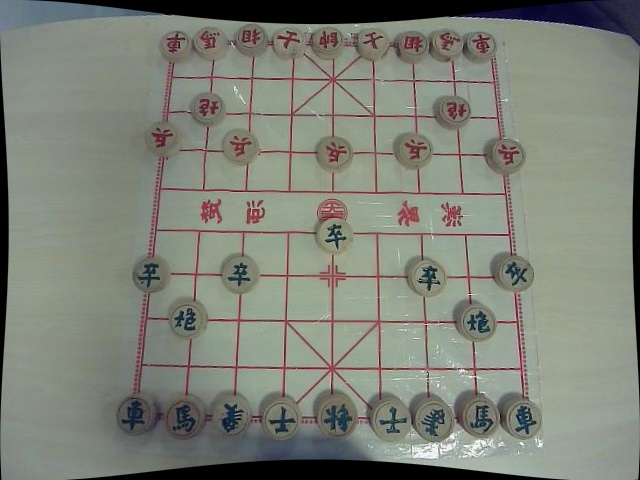Black-Cannon: (164, 303, 207, 336), (464, 307, 493, 339)
Black-Chariot: (118, 394, 153, 431), (511, 400, 539, 440)
Black-Elephant: (416, 406, 450, 442), (216, 399, 247, 437)
Black-General: (317, 398, 356, 442)
Black-Guard: (372, 403, 411, 442), (263, 401, 297, 441)
Black-Horse: (164, 403, 204, 439), (466, 398, 498, 440)
Black-Soldier: (496, 256, 536, 291), (316, 219, 351, 257), (409, 260, 445, 296), (131, 256, 166, 290), (221, 259, 255, 293)
Red-Cannon: (436, 93, 472, 128), (189, 91, 227, 123)
Red-Chariot: (466, 28, 498, 62), (164, 29, 188, 58)
Red-Elephant: (234, 22, 268, 53), (398, 27, 425, 59)
Red-General: (309, 23, 343, 55)
Red-Guard: (274, 24, 303, 56), (356, 27, 386, 56)
Red-Horse: (430, 28, 462, 65), (197, 26, 223, 55)
Red-Soldier: (487, 136, 526, 173), (394, 133, 434, 169), (223, 129, 259, 164), (143, 123, 180, 151), (319, 135, 349, 169)
